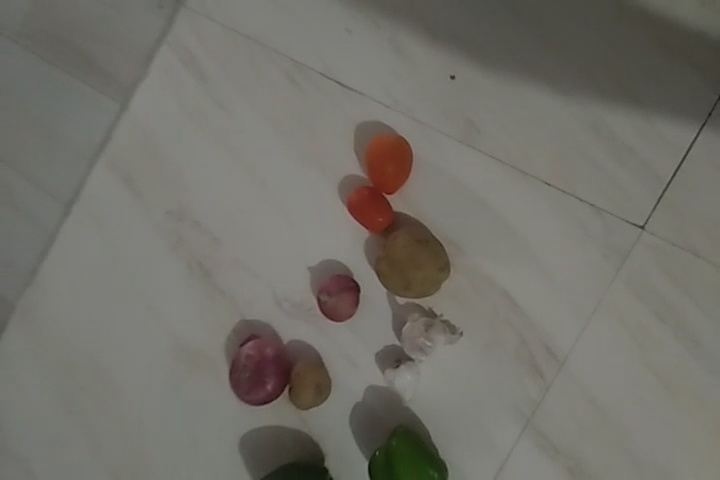capsicum: (370, 426, 452, 480), (268, 459, 334, 480)
garlic: (396, 315, 455, 363), (386, 358, 425, 404)
onion: (225, 330, 289, 405), (315, 269, 363, 320)
potato: (377, 223, 456, 310), (288, 355, 326, 411)
tomato: (364, 134, 416, 200), (347, 181, 389, 230)
